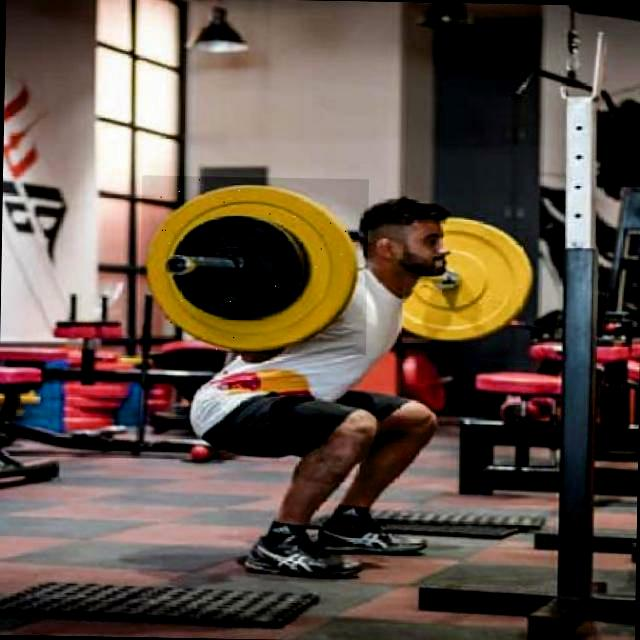barbell: (140, 176, 370, 355)
